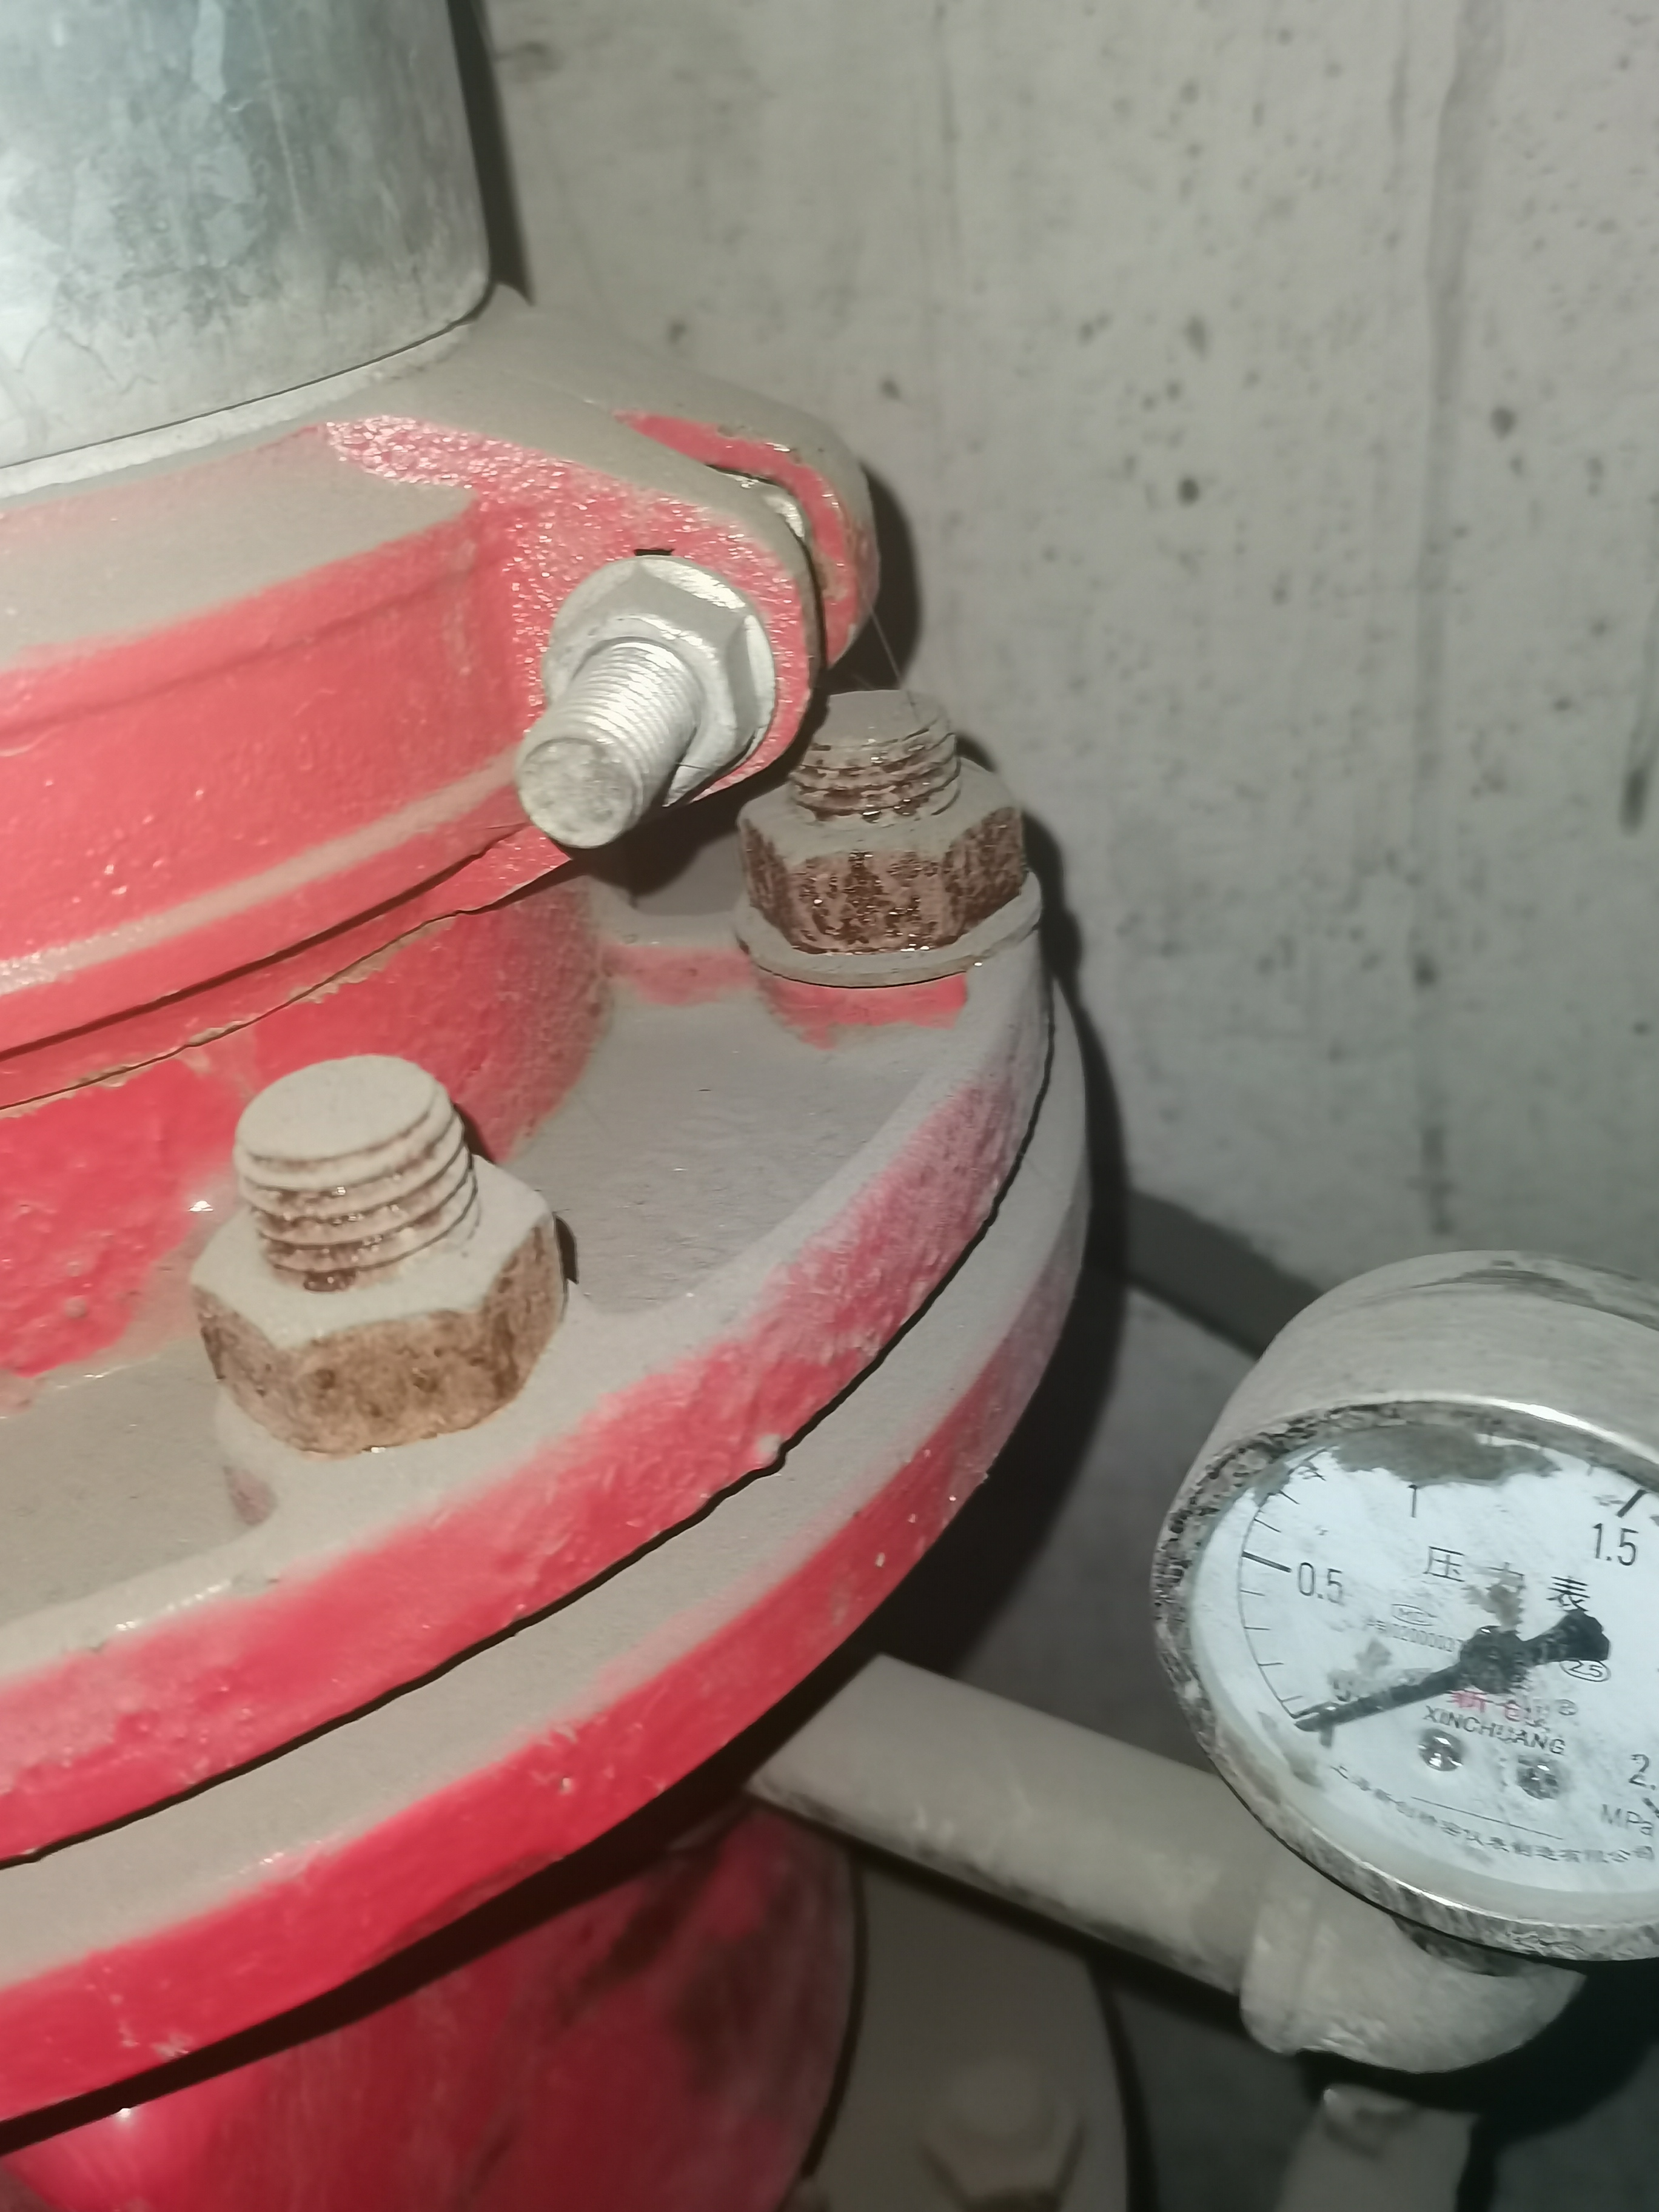bolt_b: (167, 1155, 591, 1468), (718, 740, 1068, 965), (523, 556, 769, 819)
vague: (913, 2041, 1093, 2207)
